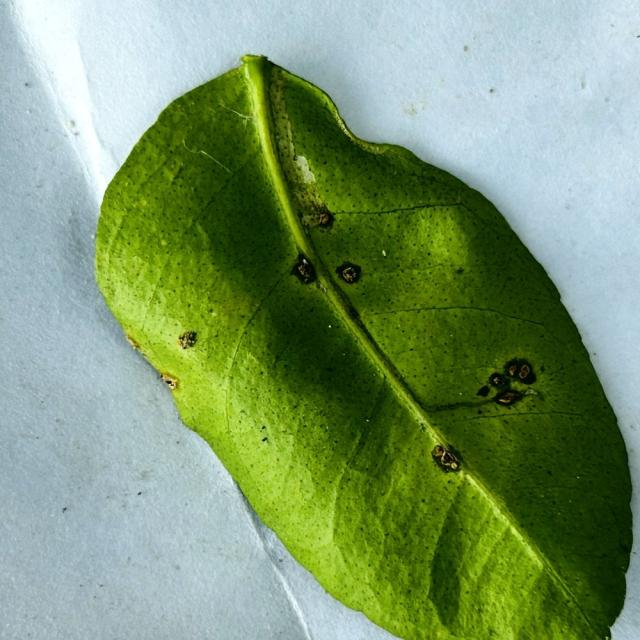Anthracnose: (126, 334, 177, 391), (296, 173, 340, 237), (478, 359, 536, 407), (320, 266, 365, 321), (293, 252, 333, 299), (271, 95, 297, 152), (329, 105, 362, 143), (293, 155, 316, 185), (432, 445, 458, 469), (178, 331, 196, 349), (126, 335, 141, 351)
Lemon: (93, 55, 634, 639)
